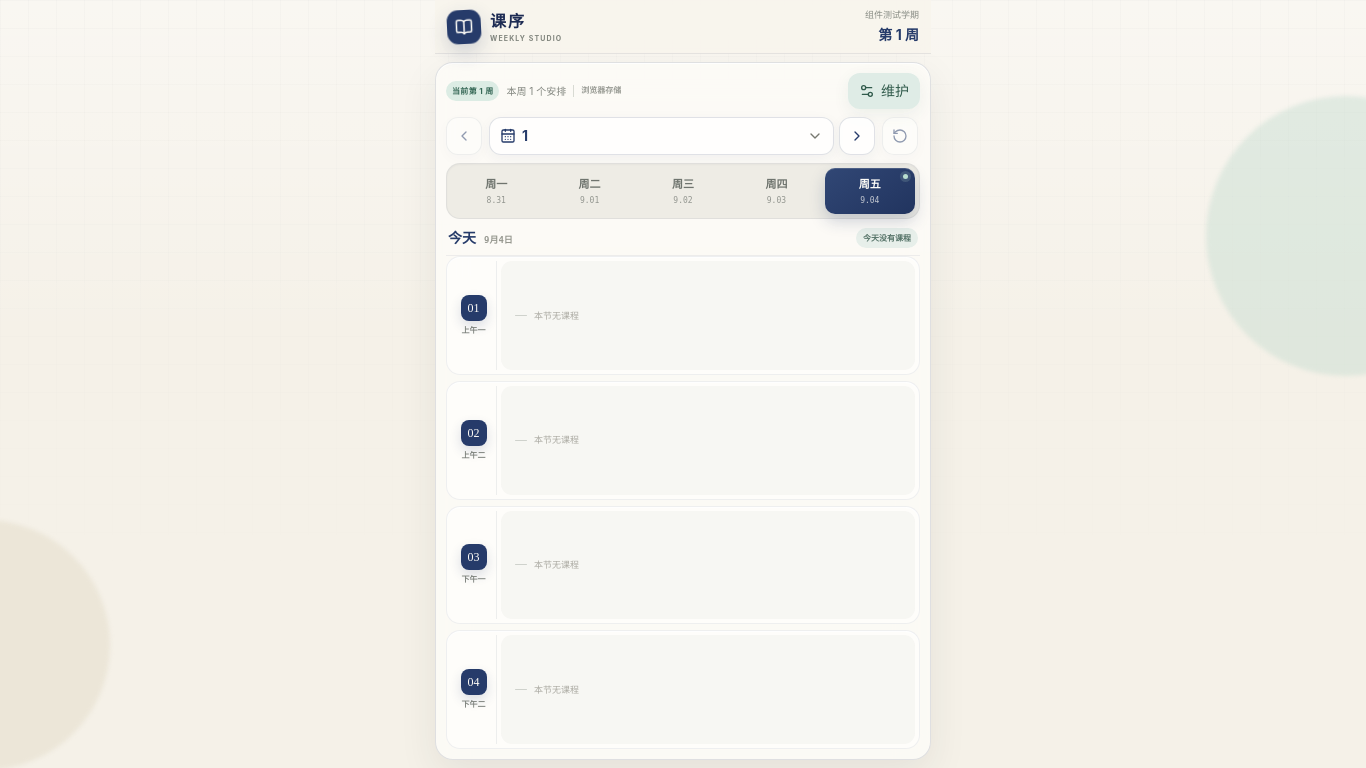
Scenario: course schedule page › 按所选周过滤课程并展示空周状态
Click the tab "周一 8.31".
click(496, 191)  # box [451, 168, 541, 214]
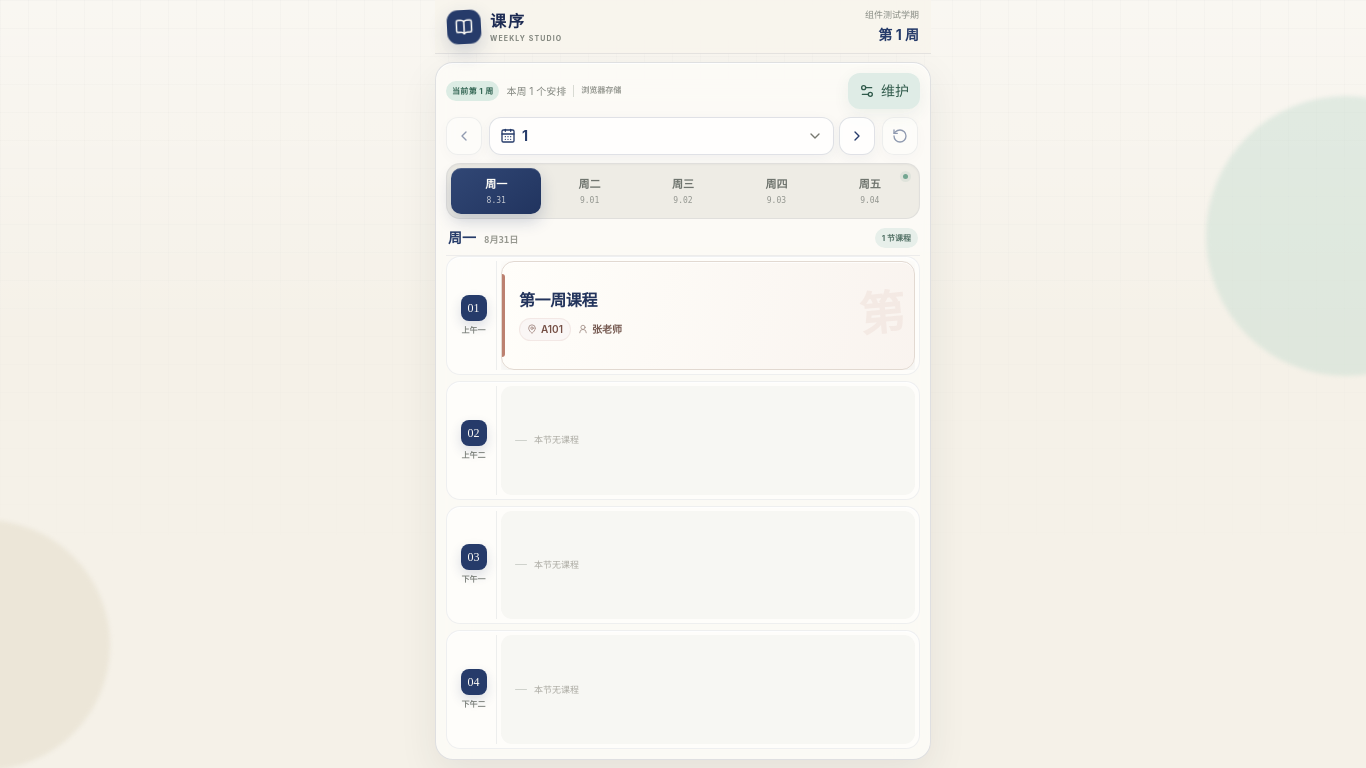
Expected: the text "第二周课程" is not shown
Expected: the heading "第一周课程" is shown, [519, 290, 597, 310]
Click the button named "下一周".
click(857, 136)  # box [839, 117, 875, 155]
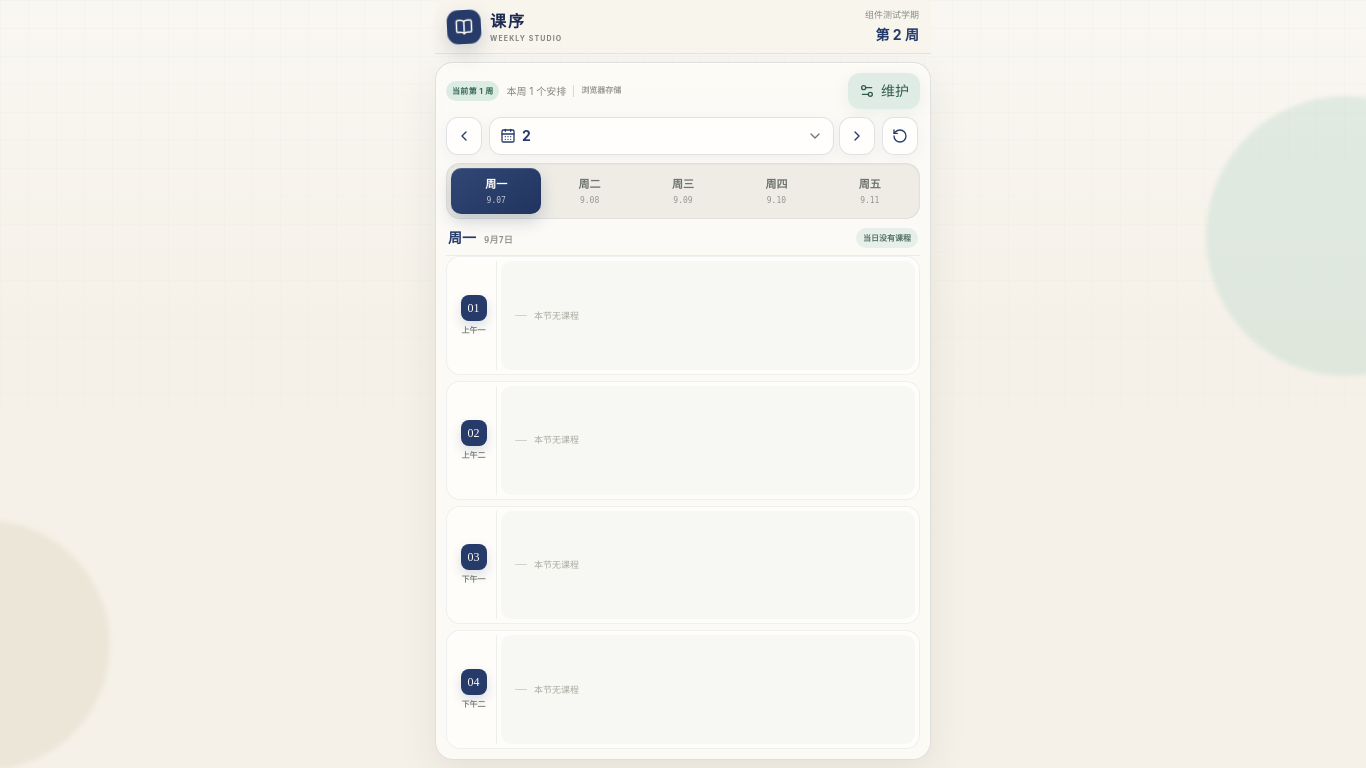
Expected: the tab "周一 9.07" is selected, [451, 168, 541, 214]
Click the tab "周二 9.08".
click(590, 191)  # box [544, 168, 635, 214]
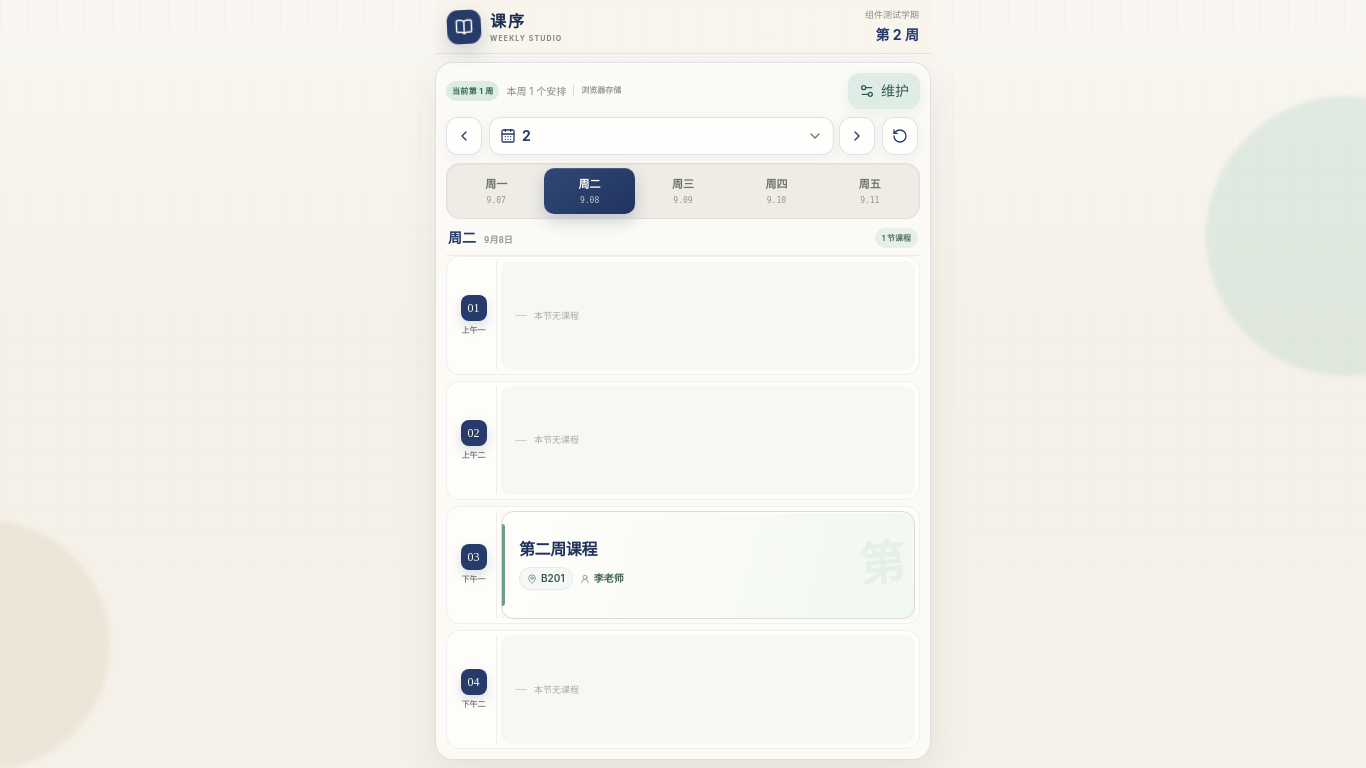
Expected: the heading "第一周课程" is not shown
Expected: the heading "第二周课程" is shown, [519, 539, 597, 559]
Click the button named "下一周".
click(857, 136)  # box [839, 117, 875, 155]
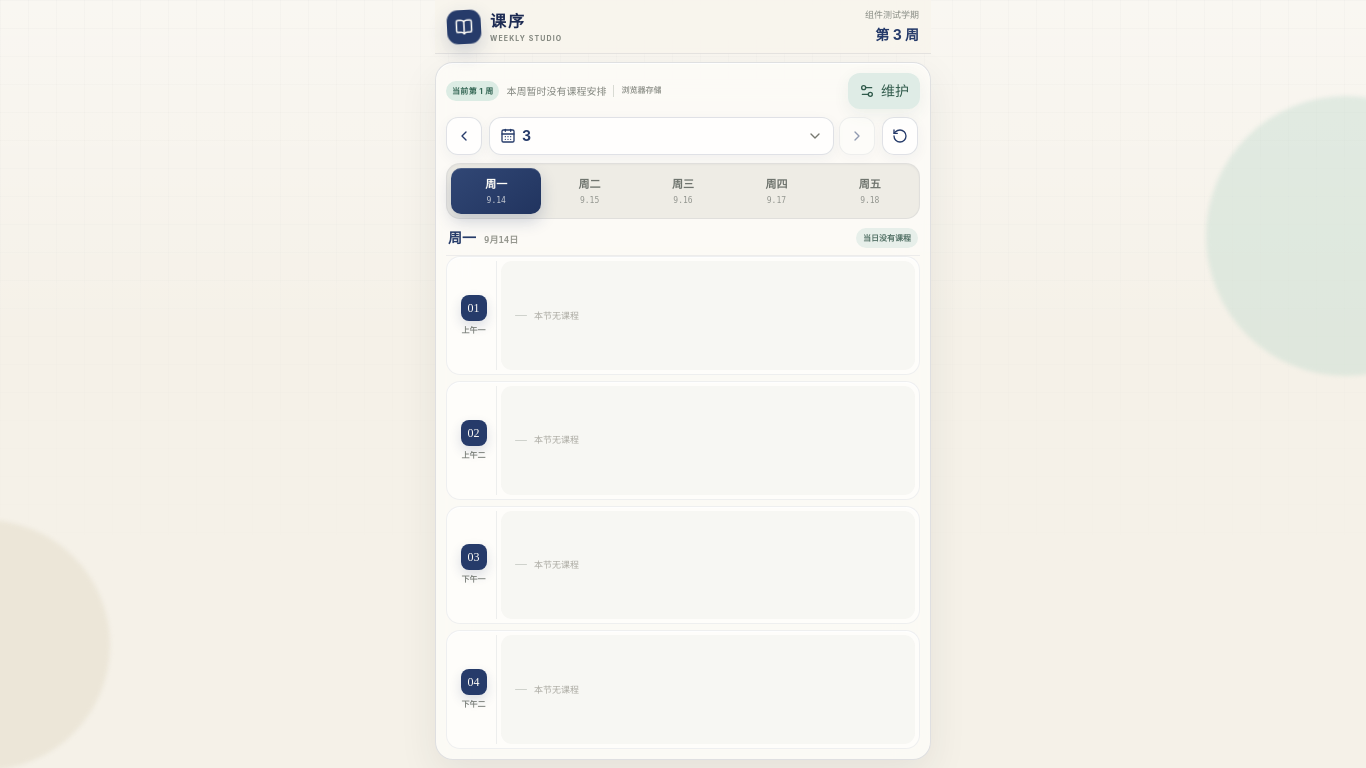
Expected: the text "本周暂时没有课程安排" is shown, [506, 84, 606, 98]
